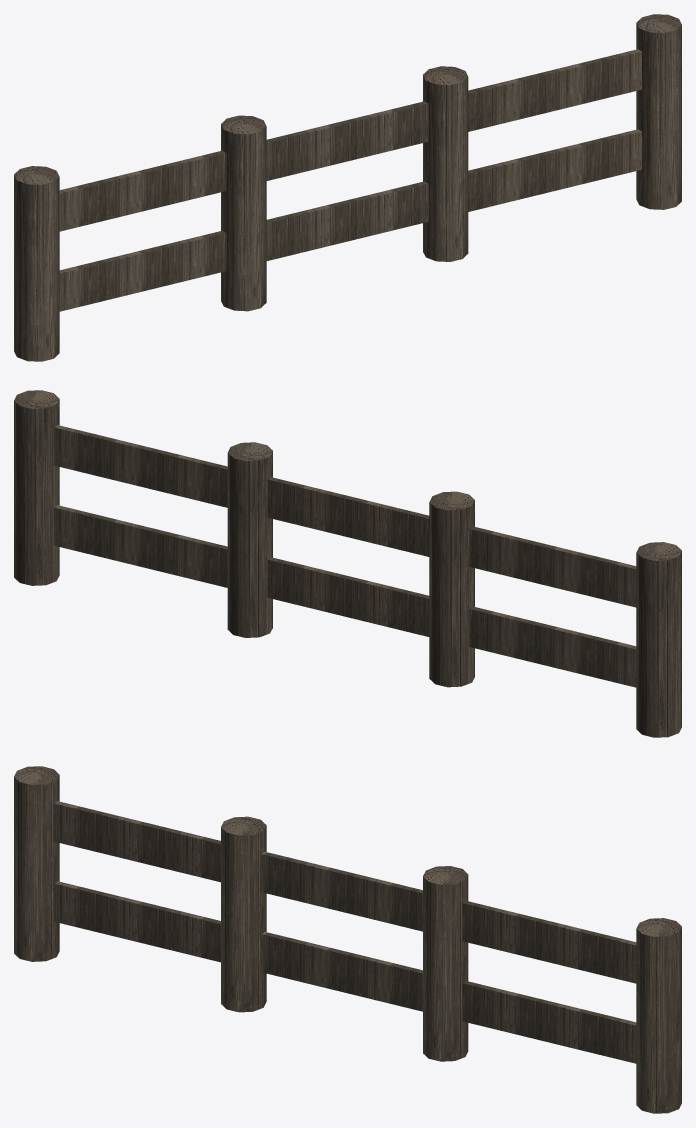
File: valla.fbx
The picture shows the model from 3 angles, top to bottom: view 1: azimuth 30°, elevation 25°; view 2: azimuth 150°, elevation 25°; view 3: azimuth 330°, elevation 25°; orthographic projection.
Visible parts, largest first — view 1: Box002, Box001, Cylinder006, Cylinder004, Cylinder005, Cylinder003; view 2: Box001, Box002, Cylinder006, Cylinder004, Cylinder005, Cylinder003; view 3: Box001, Box002, Cylinder003, Cylinder006, Cylinder005, Cylinder004.
Part boxes in pixels (x1,y1,x2,y2): Box002: [59, 129, 641, 311]; Box001: [59, 49, 641, 231]; Cylinder006: [14, 166, 59, 361]; Cylinder004: [423, 66, 468, 261]; Cylinder005: [221, 115, 266, 311]; Cylinder003: [636, 14, 681, 209]; Box001: [54, 425, 636, 607]; Box002: [54, 505, 636, 687]; Cylinder006: [636, 542, 681, 737]; Cylinder004: [227, 442, 272, 637]; Cylinder005: [429, 491, 474, 687]; Cylinder003: [14, 390, 59, 585]; Box001: [54, 801, 636, 983]; Box002: [54, 881, 636, 1063]; Cylinder003: [636, 918, 681, 1113]; Cylinder006: [14, 766, 59, 961]; Cylinder005: [221, 816, 266, 1012]; Cylinder004: [423, 866, 468, 1061].
Size of the model in its own units: 10.53 by 2.69 by 0.6002.
Materials: 1 (1 with a texture image).
